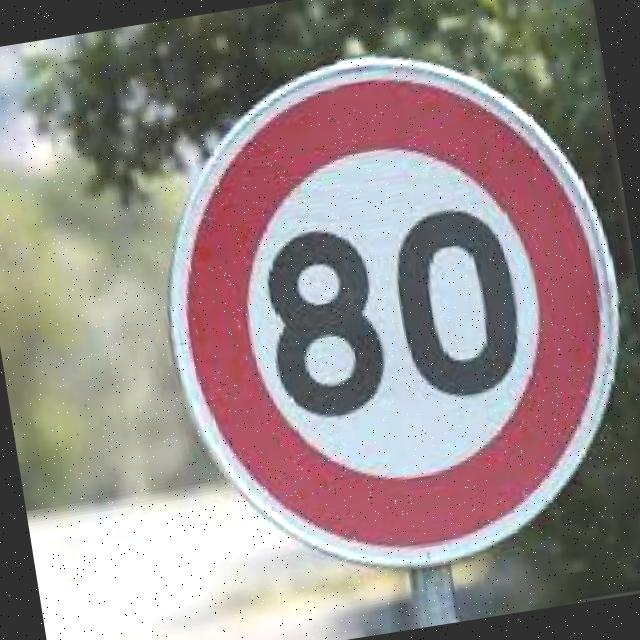Ograniczenie predkosci do 80: (210, 118, 595, 508)
